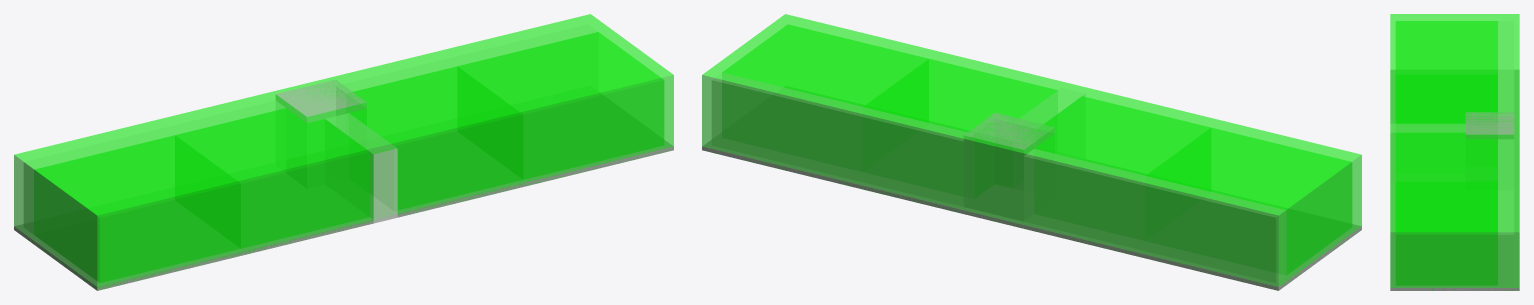
File: AddService.glb
The picture shows the model from 3 angles, left to right: view 1: azimuth 30°, elevation 25°; view 2: azimuth 150°, elevation 25°; view 3: azimuth 270°, elevation 25°; orthographic projection. The views are drawn at different scales.
Parts seen in each view (by area): view 1: 018e40f1-b8cf-4025-88d7-024a27f3eb56_mesh, 0bf143d3-230a-4f2b-a259-f969a8a8c792_mesh, 9b82cb6b-df43-4cc0-afe6-5356e648298e_mesh, 81f2463e-3d89-46ae-8223-3f121d347510_mesh, 8d640dd0-dec8-43a6-a895-37e39d39c46e_mesh, b7ec3908-9ebd-46c0-ae6e-e65b65e63c1f_mesh, 572493af-7e40-4366-b24b-b3eef82a0b5c_mesh, ecd5f488-701a-42b3-8019-97aa66fc82d8_mesh, d2fd92e7-30af-4e22-8cdc-f942b36e333b_mesh, 6a69153a-d5e5-4559-83f1-03baf9a32e93_mesh; view 2: 018e40f1-b8cf-4025-88d7-024a27f3eb56_mesh, 572493af-7e40-4366-b24b-b3eef82a0b5c_mesh, d2fd92e7-30af-4e22-8cdc-f942b36e333b_mesh, 0bf143d3-230a-4f2b-a259-f969a8a8c792_mesh, 9b82cb6b-df43-4cc0-afe6-5356e648298e_mesh, 81f2463e-3d89-46ae-8223-3f121d347510_mesh, 8d640dd0-dec8-43a6-a895-37e39d39c46e_mesh, b7ec3908-9ebd-46c0-ae6e-e65b65e63c1f_mesh, 6a69153a-d5e5-4559-83f1-03baf9a32e93_mesh, ecd5f488-701a-42b3-8019-97aa66fc82d8_mesh; view 3: 018e40f1-b8cf-4025-88d7-024a27f3eb56_mesh, 0bf143d3-230a-4f2b-a259-f969a8a8c792_mesh, 81f2463e-3d89-46ae-8223-3f121d347510_mesh, 9b82cb6b-df43-4cc0-afe6-5356e648298e_mesh, b7ec3908-9ebd-46c0-ae6e-e65b65e63c1f_mesh, 8d640dd0-dec8-43a6-a895-37e39d39c46e_mesh, d2fd92e7-30af-4e22-8cdc-f942b36e333b_mesh, 572493af-7e40-4366-b24b-b3eef82a0b5c_mesh, 6a69153a-d5e5-4559-83f1-03baf9a32e93_mesh, ecd5f488-701a-42b3-8019-97aa66fc82d8_mesh.
Part boxes in pixels (box(x1,y1,x2,y2)): 018e40f1-b8cf-4025-88d7-024a27f3eb56_mesh: box(14, 14, 673, 290); 0bf143d3-230a-4f2b-a259-f969a8a8c792_mesh: box(14, 93, 673, 290); 9b82cb6b-df43-4cc0-afe6-5356e648298e_mesh: box(34, 135, 240, 282); 81f2463e-3d89-46ae-8223-3f121d347510_mesh: box(458, 32, 663, 179); 8d640dd0-dec8-43a6-a895-37e39d39c46e_mesh: box(176, 108, 369, 248); b7ec3908-9ebd-46c0-ae6e-e65b65e63c1f_mesh: box(349, 67, 522, 209); 572493af-7e40-4366-b24b-b3eef82a0b5c_mesh: box(24, 101, 284, 234); ecd5f488-701a-42b3-8019-97aa66fc82d8_mesh: box(326, 113, 397, 223); d2fd92e7-30af-4e22-8cdc-f942b36e333b_mesh: box(343, 25, 597, 91); 6a69153a-d5e5-4559-83f1-03baf9a32e93_mesh: box(276, 79, 366, 122); 018e40f1-b8cf-4025-88d7-024a27f3eb56_mesh: box(702, 14, 1361, 290); 572493af-7e40-4366-b24b-b3eef82a0b5c_mesh: box(1024, 149, 1286, 282); d2fd92e7-30af-4e22-8cdc-f942b36e333b_mesh: box(712, 73, 966, 206); 0bf143d3-230a-4f2b-a259-f969a8a8c792_mesh: box(702, 86, 1361, 290); 9b82cb6b-df43-4cc0-afe6-5356e648298e_mesh: box(1146, 128, 1351, 274); 81f2463e-3d89-46ae-8223-3f121d347510_mesh: box(722, 25, 927, 106); 8d640dd0-dec8-43a6-a895-37e39d39c46e_mesh: box(1035, 96, 1210, 175); b7ec3908-9ebd-46c0-ae6e-e65b65e63c1f_mesh: box(864, 59, 1057, 131); 6a69153a-d5e5-4559-83f1-03baf9a32e93_mesh: box(964, 112, 1054, 221); ecd5f488-701a-42b3-8019-97aa66fc82d8_mesh: box(1020, 88, 1085, 123); 018e40f1-b8cf-4025-88d7-024a27f3eb56_mesh: box(1390, 14, 1519, 290); 0bf143d3-230a-4f2b-a259-f969a8a8c792_mesh: box(1390, 70, 1519, 290); 81f2463e-3d89-46ae-8223-3f121d347510_mesh: box(1396, 182, 1497, 285); 9b82cb6b-df43-4cc0-afe6-5356e648298e_mesh: box(1396, 21, 1497, 74); b7ec3908-9ebd-46c0-ae6e-e65b65e63c1f_mesh: box(1396, 133, 1497, 181); 8d640dd0-dec8-43a6-a895-37e39d39c46e_mesh: box(1396, 75, 1497, 123); d2fd92e7-30af-4e22-8cdc-f942b36e333b_mesh: box(1498, 139, 1513, 285); 572493af-7e40-4366-b24b-b3eef82a0b5c_mesh: box(1498, 21, 1513, 111); 6a69153a-d5e5-4559-83f1-03baf9a32e93_mesh: box(1465, 112, 1514, 138); ecd5f488-701a-42b3-8019-97aa66fc82d8_mesh: box(1390, 124, 1465, 182).
Size of the model in its own units: 48 by 6 by 12.01.
